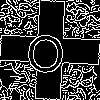O: (25, 25, 66, 74)
